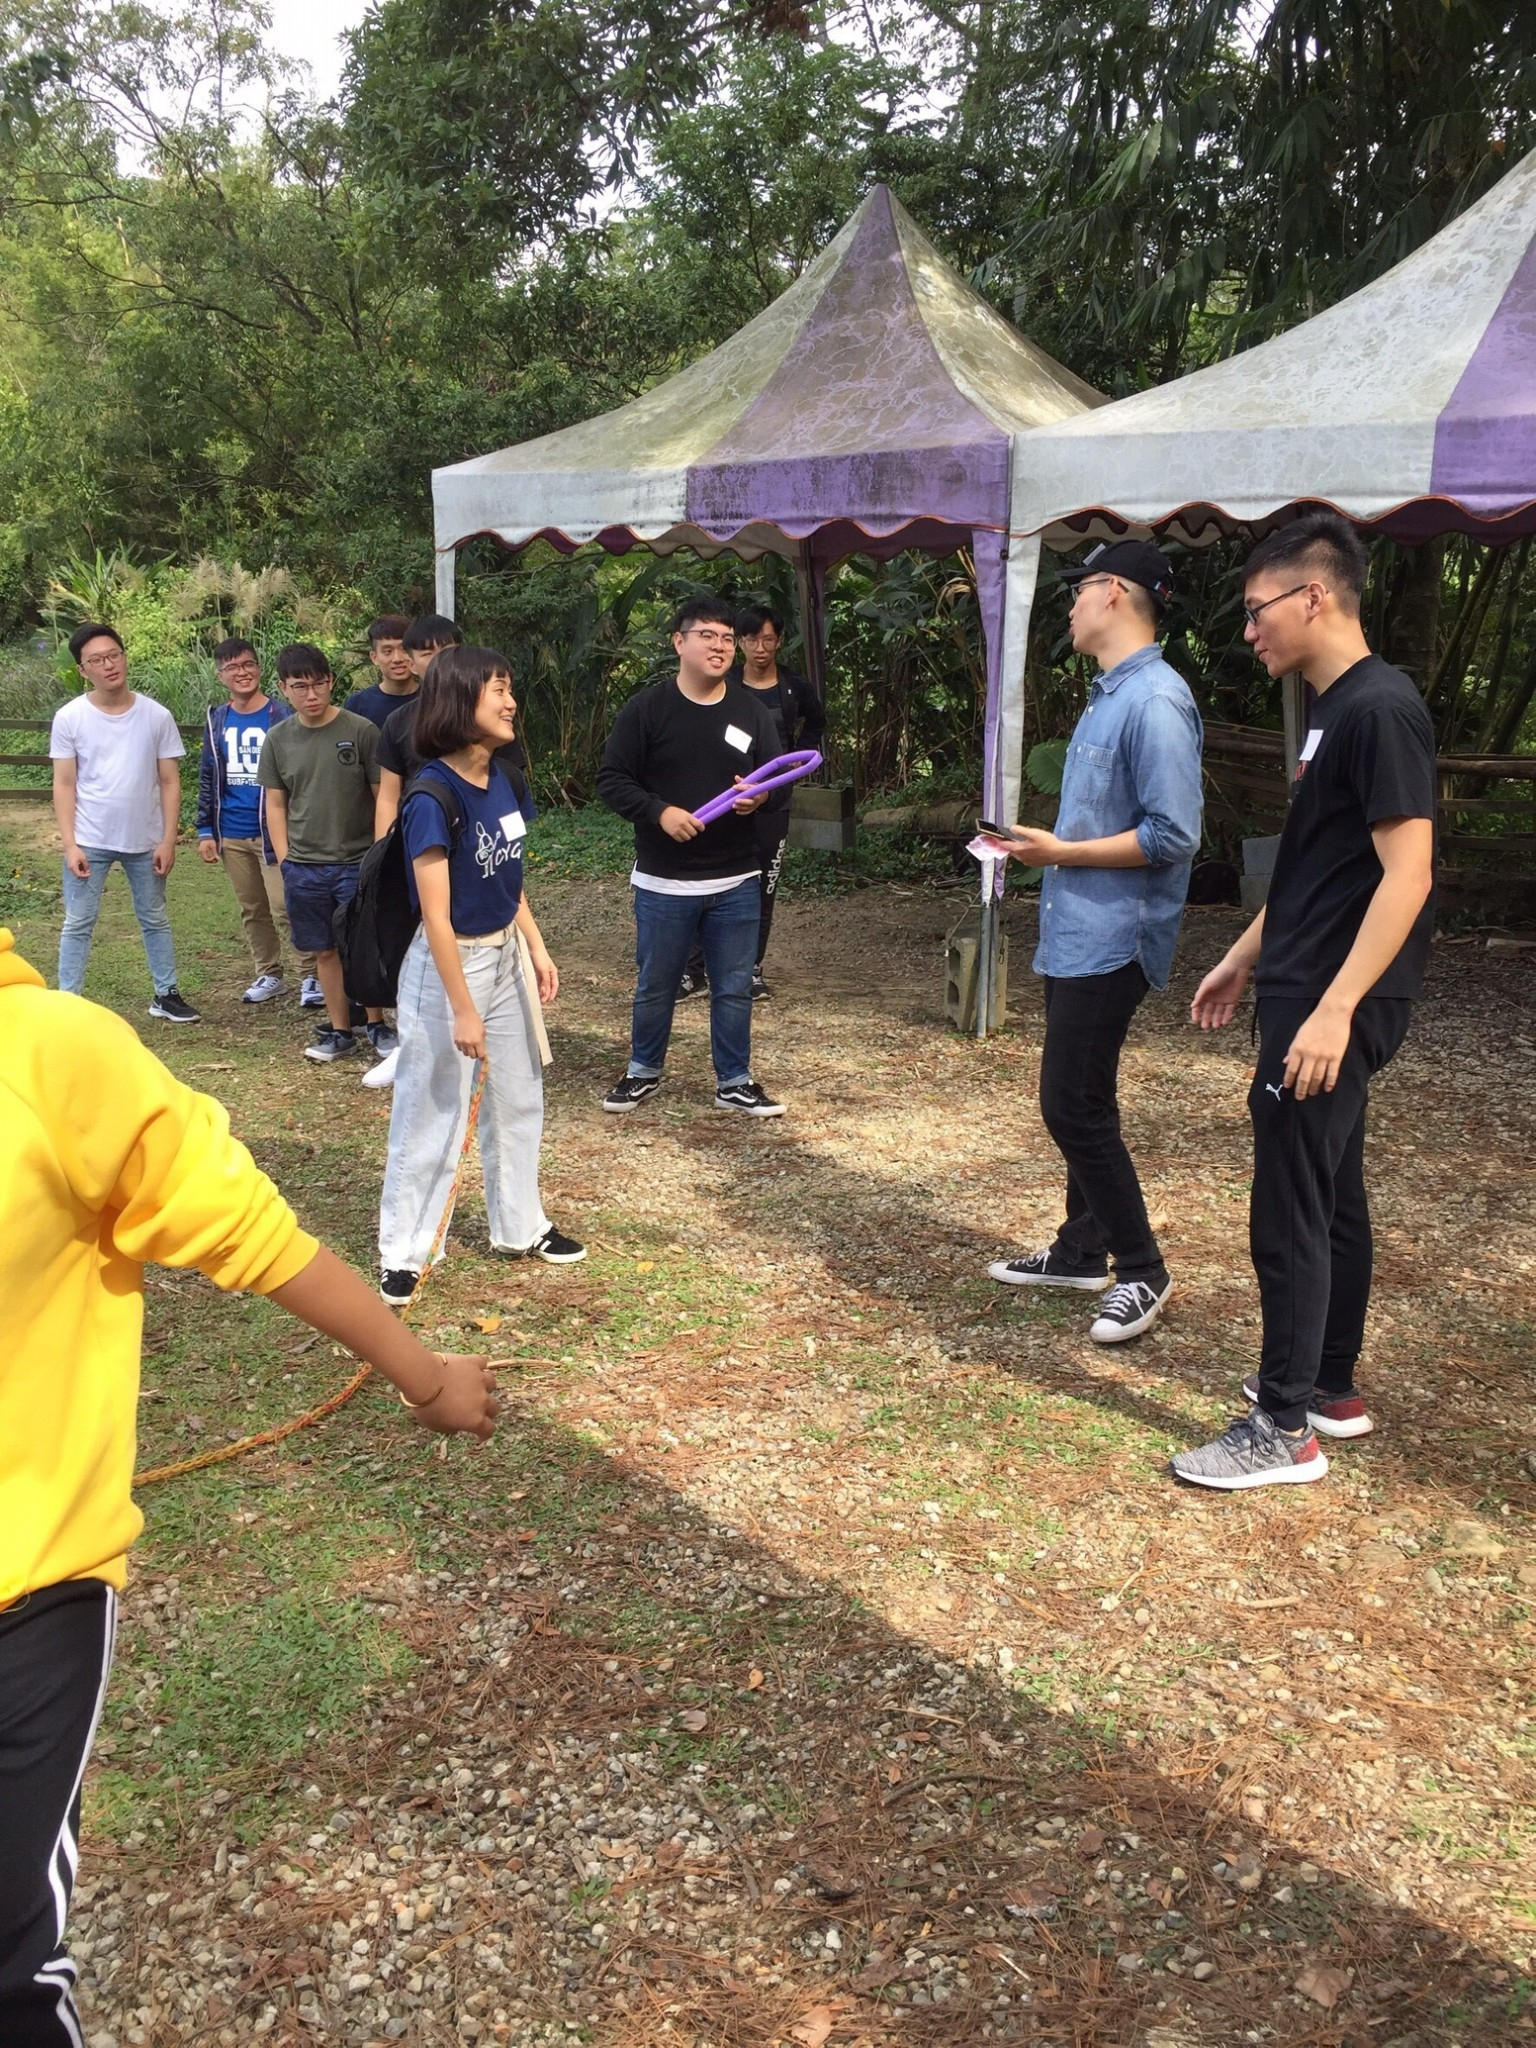people: (5, 873, 163, 2048), (1237, 522, 1382, 1454), (1034, 547, 1156, 1331), (424, 670, 550, 1280), (650, 622, 773, 1105), (53, 612, 179, 993), (273, 654, 392, 1018), (189, 638, 279, 954), (353, 641, 437, 954), (415, 641, 492, 896), (731, 609, 818, 789)
